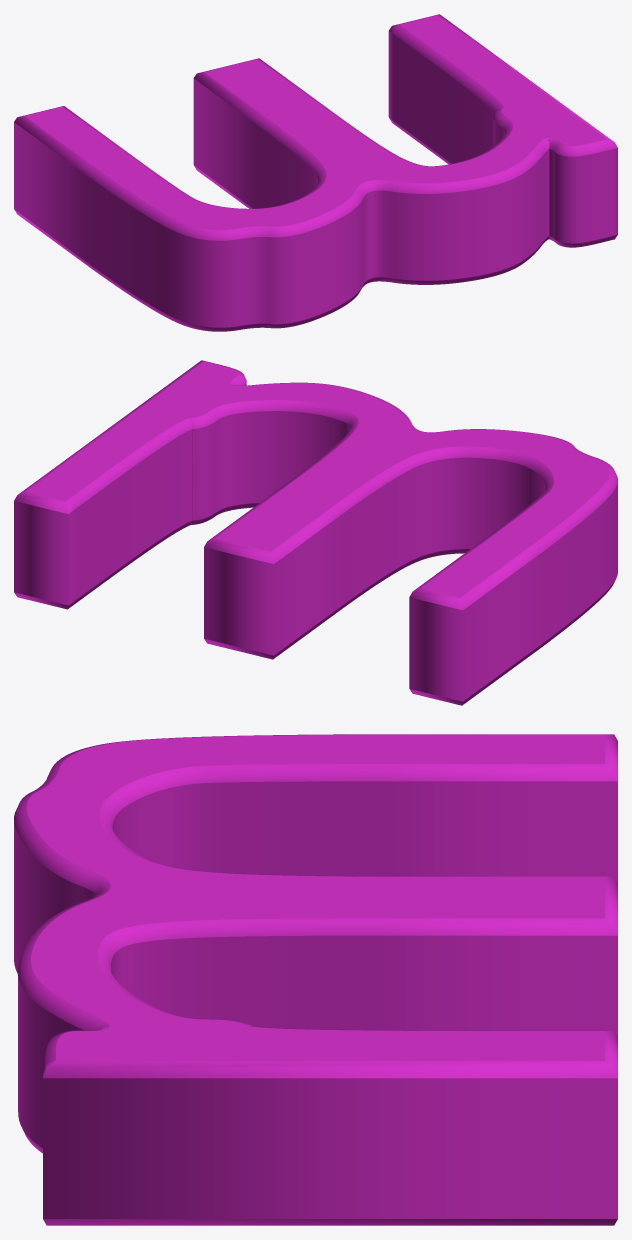
Rendered from Blocky_Letter_m.fbx.
3 renders of one model, top to bottom at view 1: azimuth 30°, elevation 25°; view 2: azimuth 150°, elevation 25°; view 3: azimuth 270°, elevation 25°, orthographic. The views are drawn at different scales.
Parts seen in each view (by area): view 1: BlockyLetter_m; view 2: BlockyLetter_m; view 3: BlockyLetter_m.
Boxes of the visible parts, x1,y1,x2,y2 form: BlockyLetter_m: [14, 14, 617, 331]; BlockyLetter_m: [14, 360, 617, 705]; BlockyLetter_m: [14, 734, 617, 1225].
Bounding box in the file's own units: 0.6169 × 0.14 × 0.4668.
